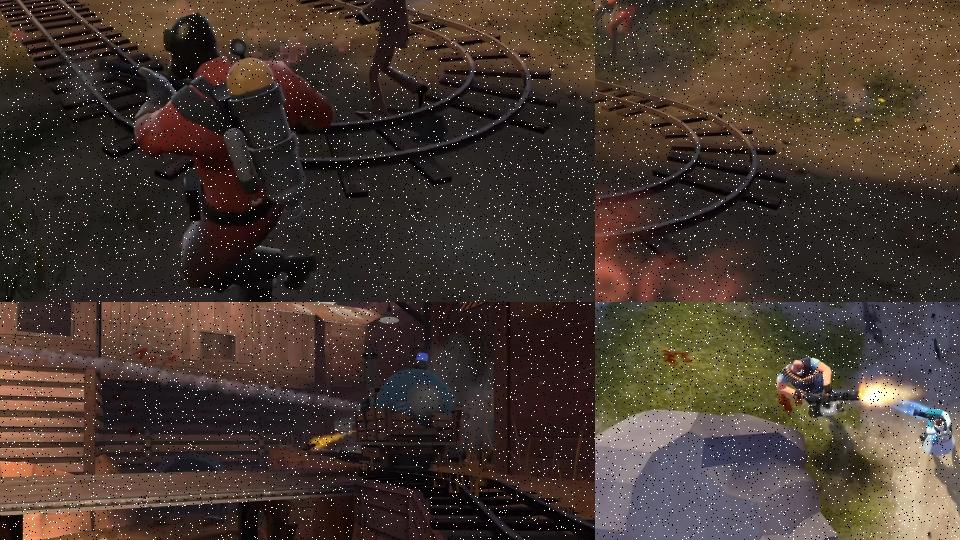Enemy: (96, 14, 338, 302), (298, 0, 424, 123), (772, 348, 871, 429), (904, 401, 960, 464), (595, 0, 644, 54)
